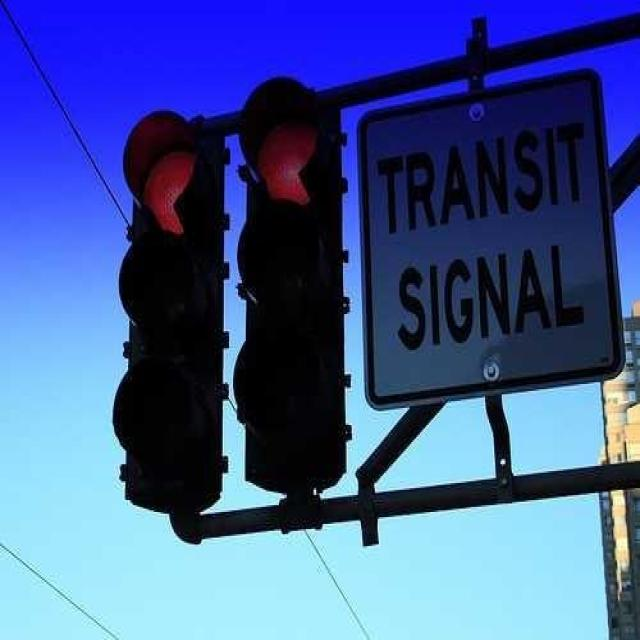Traffic Light -Red-: (219, 60, 365, 503), (98, 89, 242, 531)
